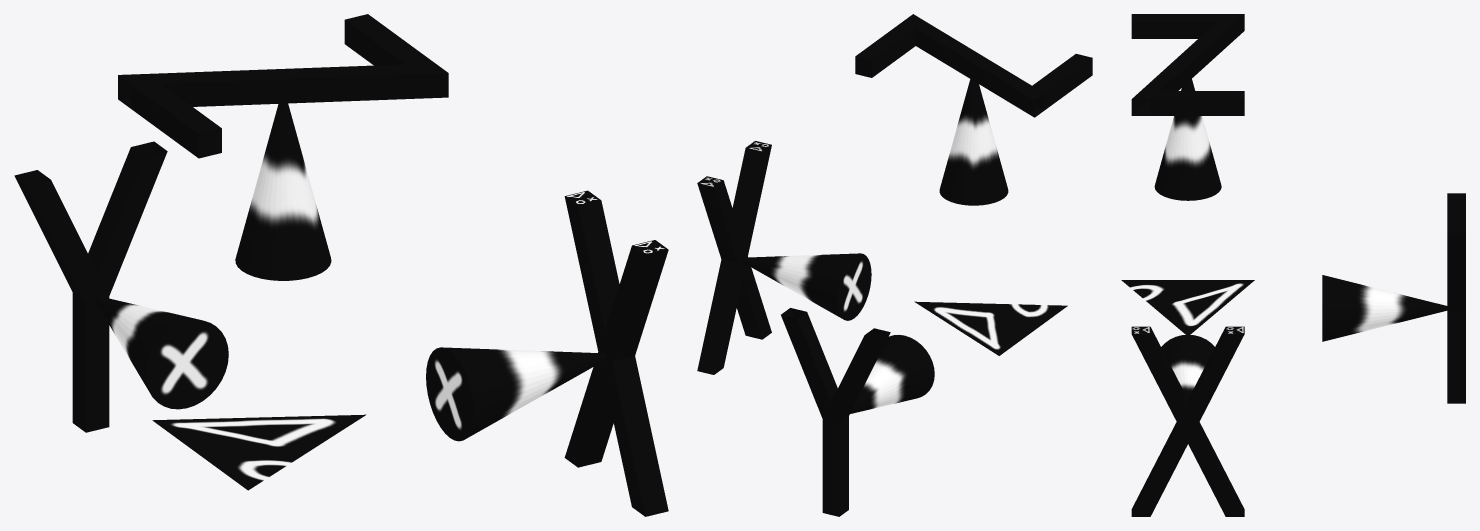
File: axis.glb
The picture shows the model from 3 angles, left to right: view 1: azimuth 30°, elevation 25°; view 2: azimuth 150°, elevation 25°; view 3: azimuth 270°, elevation 25°; orthographic projection. The views are drawn at different scales.
Visible parts, largest first — view 1: Plane; view 2: Plane; view 3: Plane.
Part boxes in pixels (box(x1,y1,x2,y2)): Plane: box(14, 14, 668, 516); Plane: box(697, 14, 1092, 516); Plane: box(1121, 14, 1465, 516).
Size of the model in its own units: 5.64 by 5.64 by 5.14.
1 material, 1 textured.
